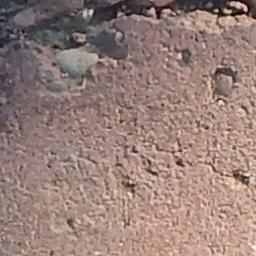Structural-Crack: (0, 2, 256, 91)
